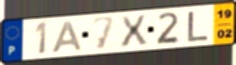1: (33, 20, 48, 57)
2: (155, 11, 181, 47)
7: (91, 15, 116, 52)
A: (51, 20, 84, 55)
L: (186, 10, 211, 43)
X: (118, 13, 150, 49)
